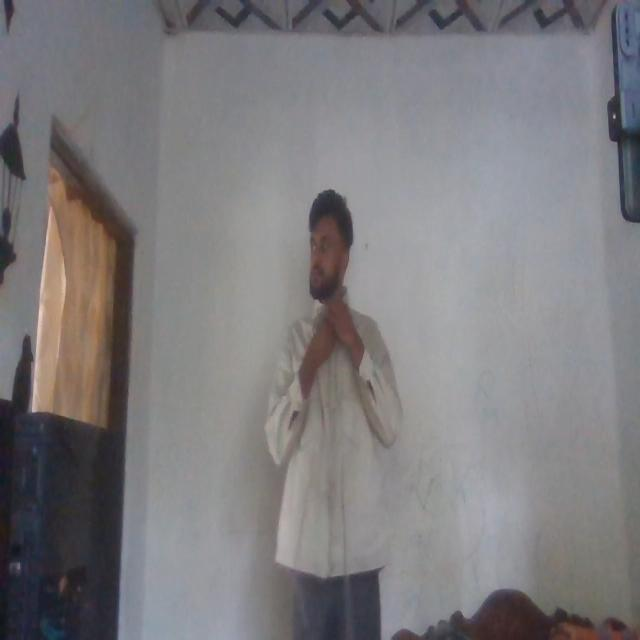Jacket_Wearer: (268, 297, 400, 570)
Person: (257, 173, 399, 640)
